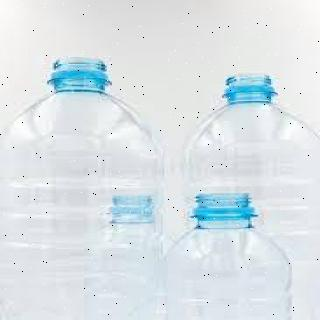Plastic-bottle: (1, 55, 169, 320), (179, 72, 320, 320), (161, 190, 296, 320), (74, 190, 174, 320)
